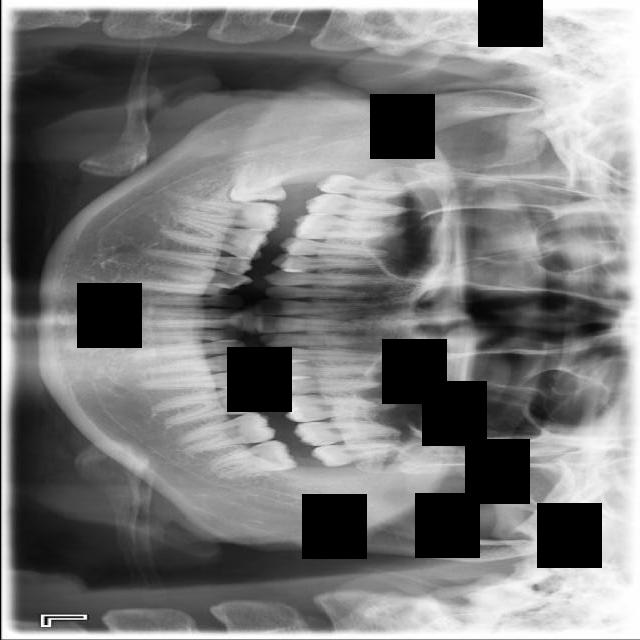3M ESPE Implant: (315, 172, 411, 202)
73: (22, 620, 36, 630)
BioHorizons Implant: (293, 422, 401, 445)
BioLife Implant: (309, 441, 403, 468)
Biomet 3i Implant: (205, 436, 298, 484)
Blue Sky Bio Implant: (174, 410, 276, 455)
Caries: (301, 192, 409, 220)
Implant: (176, 198, 281, 232)
Keystone Dental Implant: (226, 159, 288, 205)
